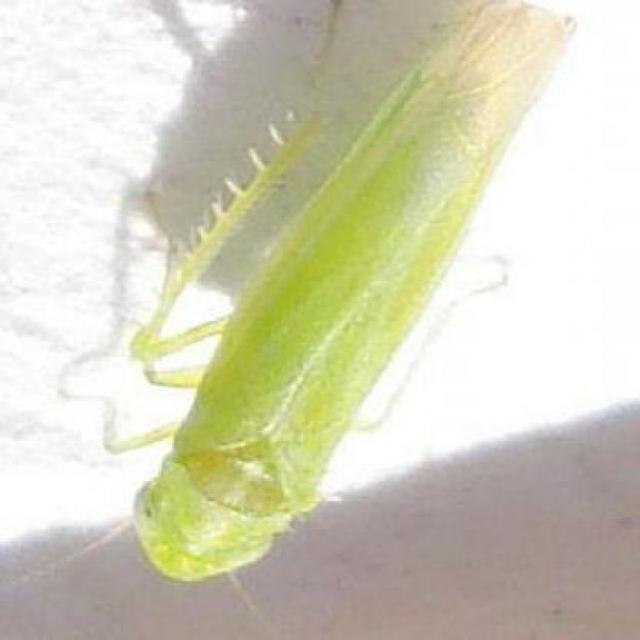green-leafhopper: (92, 4, 579, 580)
